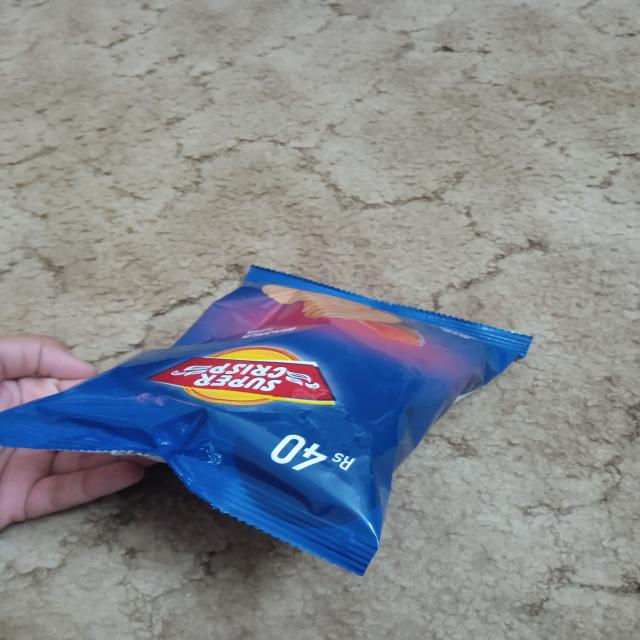Plastic: (188, 316, 406, 498)
